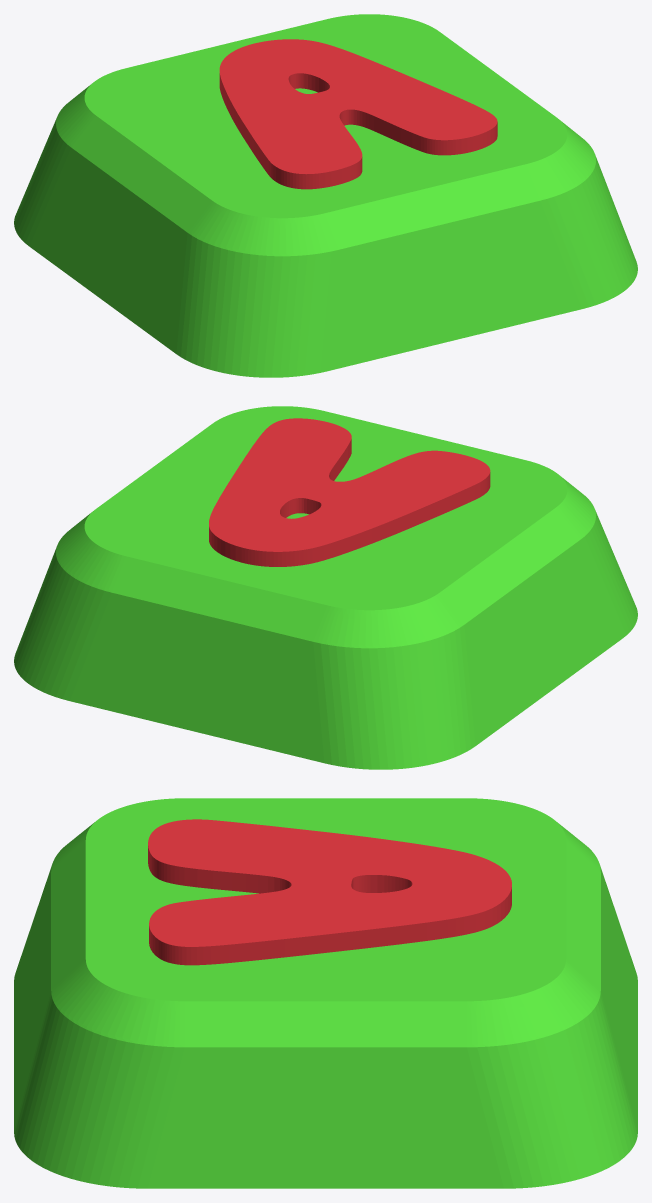
3 renders of one model, top to bottom at view 1: azimuth 30°, elevation 25°; view 2: azimuth 150°, elevation 25°; view 3: azimuth 270°, elevation 25°, orthographic. The views are drawn at different scales.
Visible parts, largest first — view 1: CAPS_A, FONT_A; view 2: CAPS_A, FONT_A; view 3: CAPS_A, FONT_A.
Part boxes in pixels (box(x1,y1,x2,y2)): CAPS_A: box(14, 14, 637, 377); FONT_A: box(219, 39, 497, 189); CAPS_A: box(14, 406, 637, 769); FONT_A: box(209, 418, 490, 566); CAPS_A: box(14, 798, 637, 1188); FONT_A: box(148, 819, 511, 965).
Bounding box in the file's own units: 18 × 5.59 × 18.
